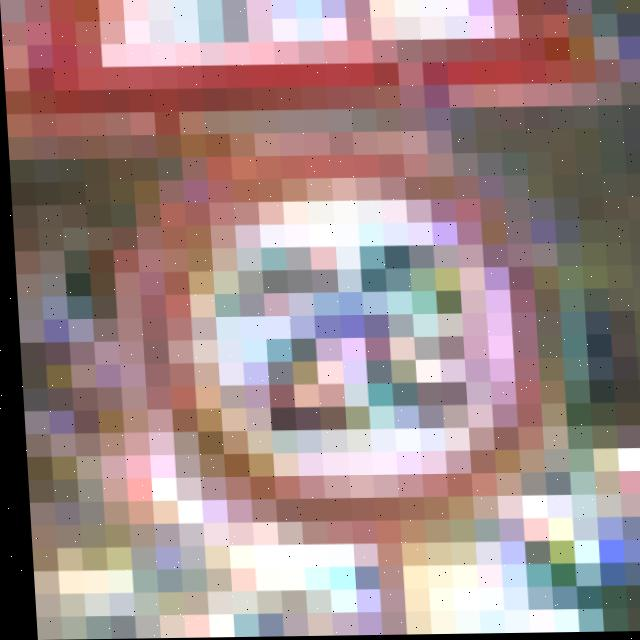speed_limit_20: (134, 171, 573, 514)
